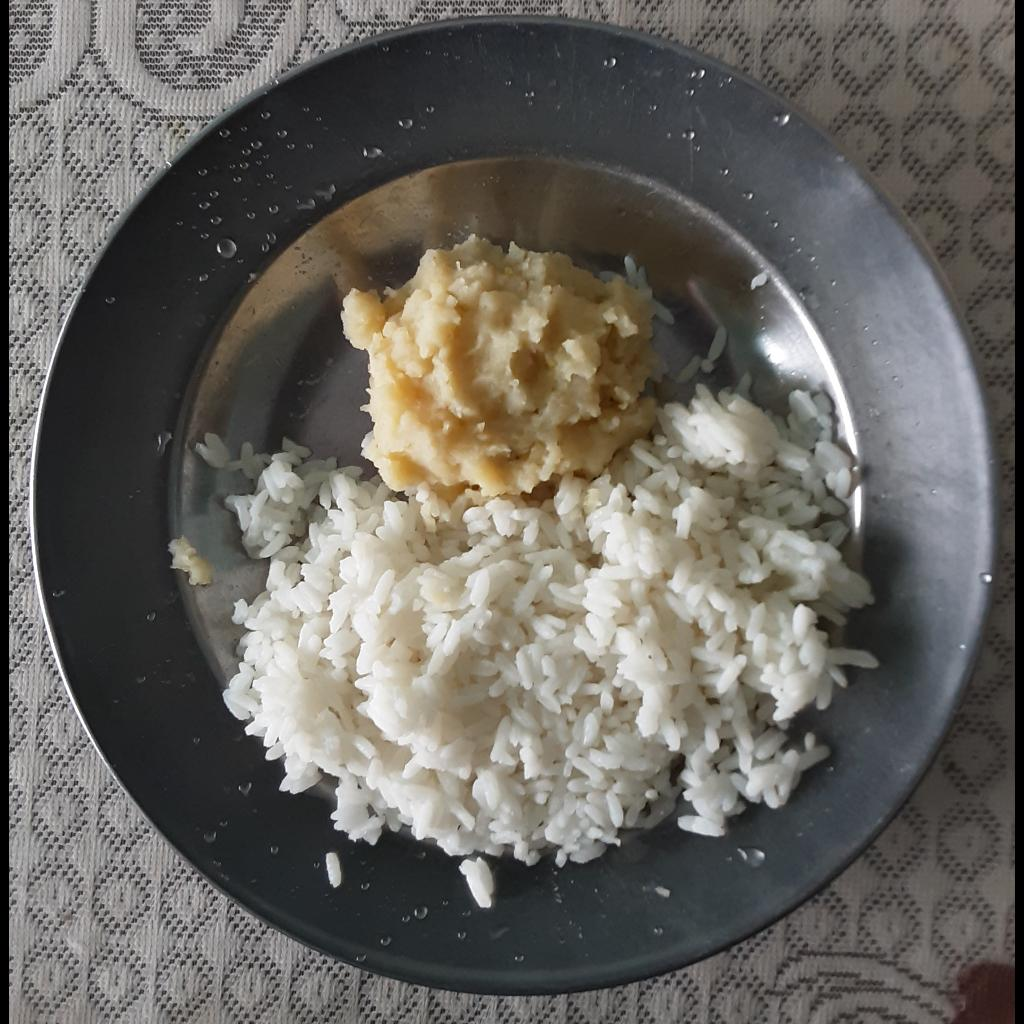potato-mashed: (337, 230, 666, 497)
rice: (197, 334, 878, 905), (166, 533, 220, 590), (319, 850, 343, 891)
